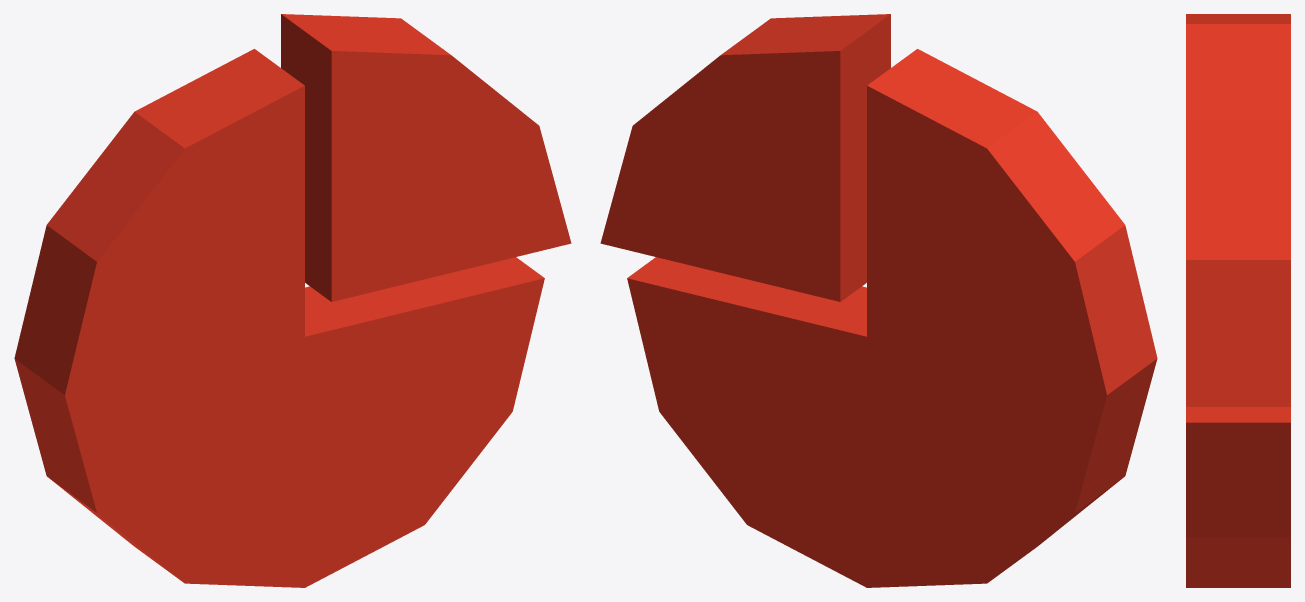
File: Icon_Analytics_01.fbx
The picture shows the model from 3 angles, left to right: view 1: azimuth 30°, elevation 25°; view 2: azimuth 150°, elevation 25°; view 3: azimuth 270°, elevation 25°; orthographic projection. The views are drawn at different scales.
Visible parts, largest first — view 1: Icon_Analytics_01; view 2: Icon_Analytics_01; view 3: Icon_Analytics_01.
Part boxes in pixels (bbox=[...]): Icon_Analytics_01: bbox=[14, 14, 571, 587]; Icon_Analytics_01: bbox=[600, 14, 1157, 587]; Icon_Analytics_01: bbox=[1186, 14, 1290, 587].
Size of the model in its own units: 70 by 70.05 by 12.06.
